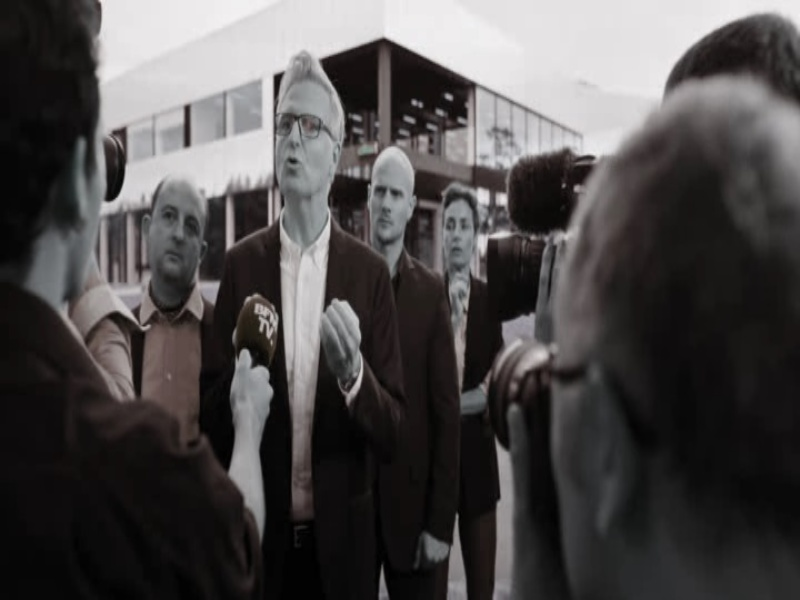TsisyArotava: (266, 50, 349, 224), (140, 175, 217, 292), (361, 145, 430, 252), (437, 186, 488, 273)
